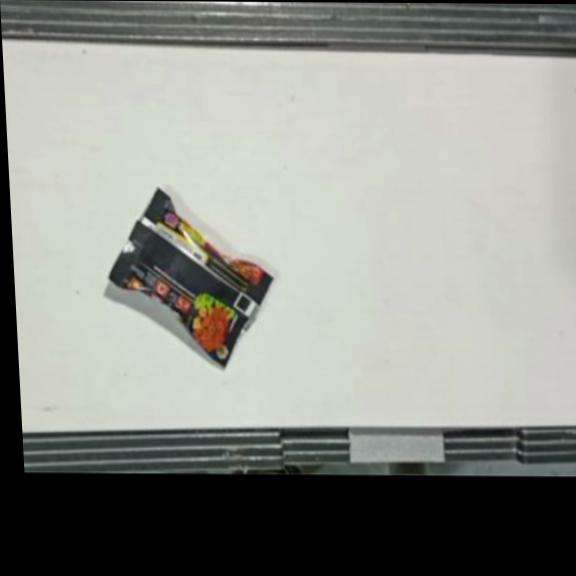Plastik: (104, 187, 279, 370)
